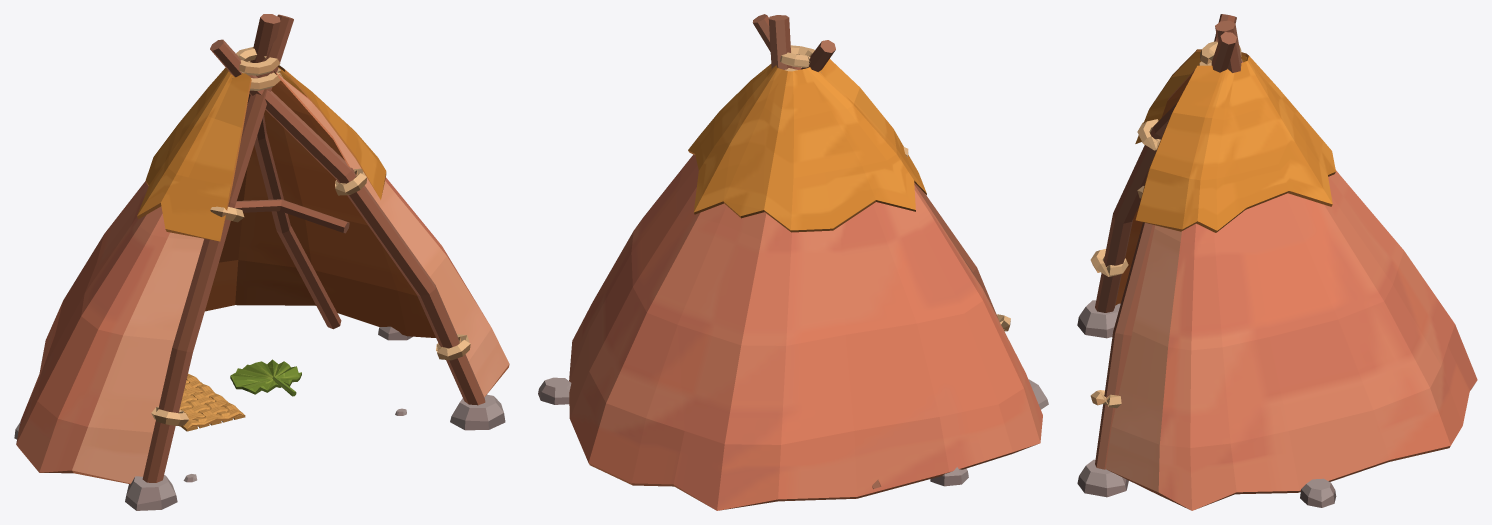
The model's file is 05_Prehistoric_Burdock_Tent.glb.
3 views of the same model, side by side, from view 1: azimuth 30°, elevation 25°; view 2: azimuth 150°, elevation 25°; view 3: azimuth 270°, elevation 25° (orthographic).
Parts seen in each view (by area): view 1: 05_Prehistoric_Burdock_Tent; view 2: 05_Prehistoric_Burdock_Tent; view 3: 05_Prehistoric_Burdock_Tent.
Boxes of the visible parts, x1,y1,x2,y2 form: 05_Prehistoric_Burdock_Tent: (14,14,509,510); 05_Prehistoric_Burdock_Tent: (538,14,1048,510); 05_Prehistoric_Burdock_Tent: (1077,14,1477,510).
Size of the model in its own units: 9.95 by 8.13 by 7.57.
Materials: 3 (3 with a texture image).
